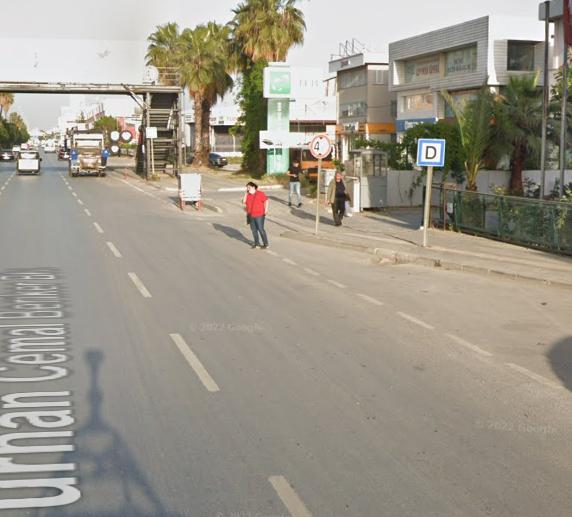station: (418, 138, 444, 168)
